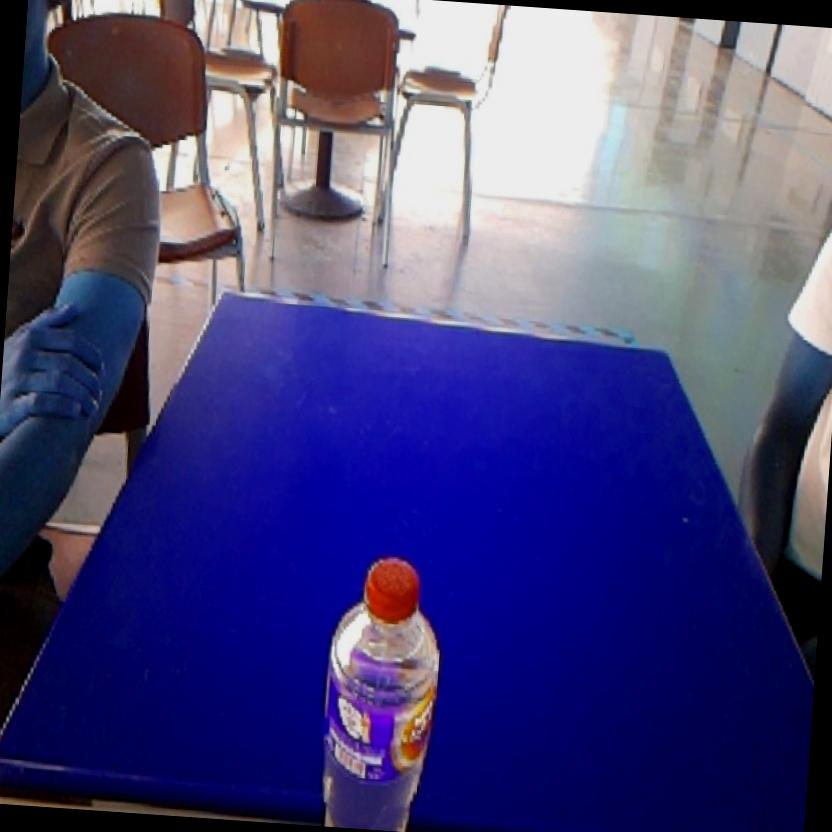good: (298, 529, 457, 832)
